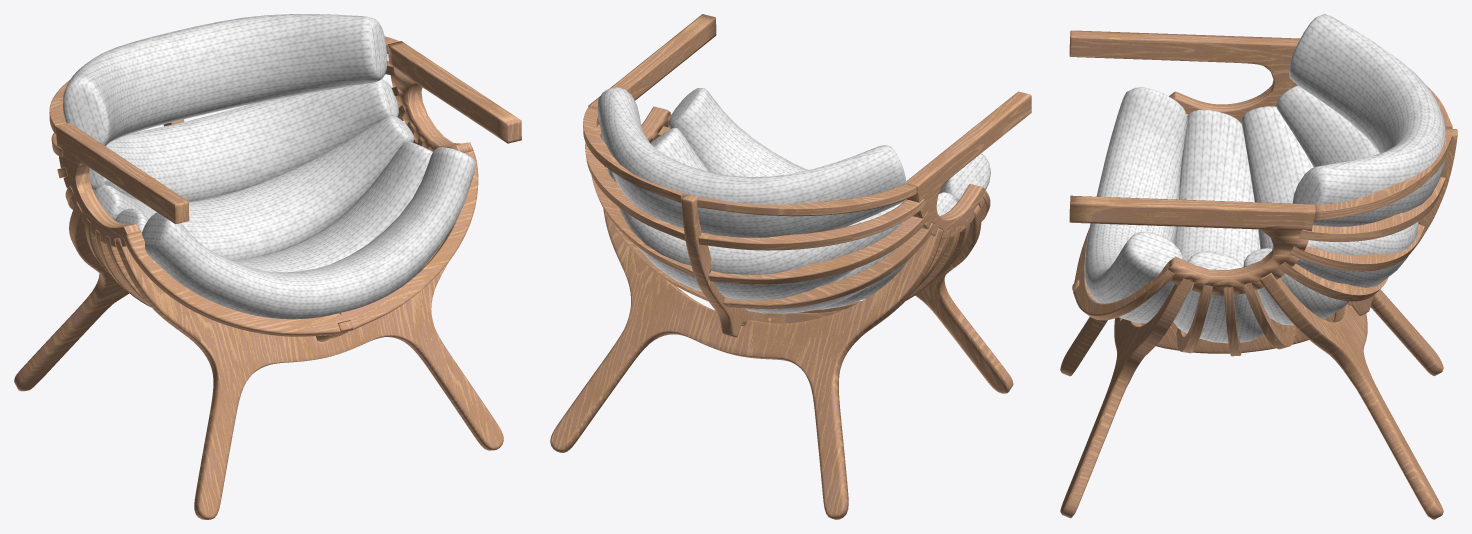
The model's file is shell_chair.glb.
3 views of the same model, side by side, from view 1: azimuth 30°, elevation 25°; view 2: azimuth 150°, elevation 25°; view 3: azimuth 270°, elevation 25° (orthographic). The views are drawn at different scales.
Visible parts, largest first — view 1: Chair; view 2: Chair; view 3: Chair.
Boxes of the visible parts, bbox=[...] form: Chair: bbox=[14, 14, 521, 519]; Chair: bbox=[550, 14, 1031, 519]; Chair: bbox=[1060, 14, 1457, 519].
Size of the model in its own units: 0.8569 by 0.8285 by 0.829.
Materials: 2 (2 with a texture image).
